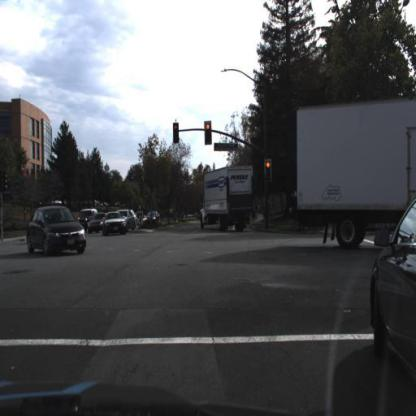car: (369, 190, 416, 412), (26, 204, 88, 259), (103, 211, 128, 235), (80, 208, 101, 229)
trafficLight-Red: (263, 159, 275, 188), (204, 120, 214, 147)
trafficLight-RedLeft: (173, 121, 181, 147)
truck: (295, 100, 416, 259), (200, 167, 255, 235)
